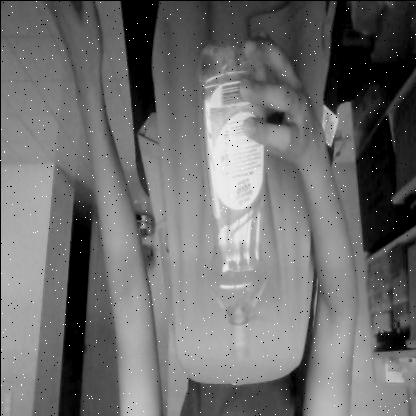Plastic Bottle: (194, 41, 268, 361)
